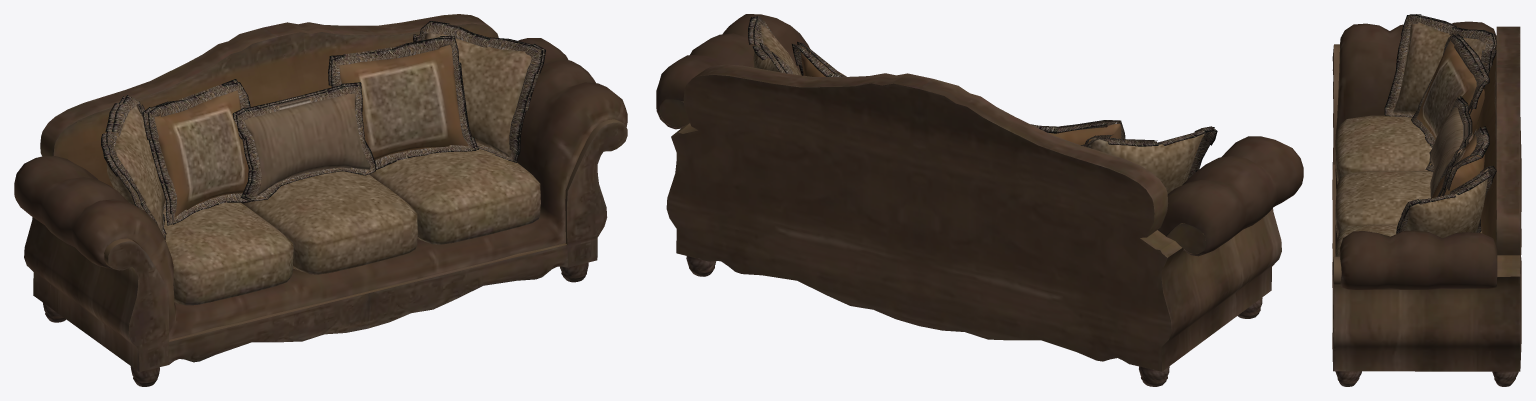
Rendered from sofa_03.glb.
3 views of the same model, side by side, from view 1: azimuth 30°, elevation 25°; view 2: azimuth 150°, elevation 25°; view 3: azimuth 270°, elevation 25° (orthographic). The views are drawn at different scales.
Visible parts, largest first — view 1: sofa_03; view 2: sofa_03; view 3: sofa_03.
Boxes of the visible parts, x1,y1,x2,y2 form: sofa_03: (14, 14, 627, 386); sofa_03: (656, 14, 1303, 386); sofa_03: (1332, 14, 1521, 386).
Bounding box in the file's own units: 2.73 × 1.12 × 0.925.
2 materials, 2 textured.
